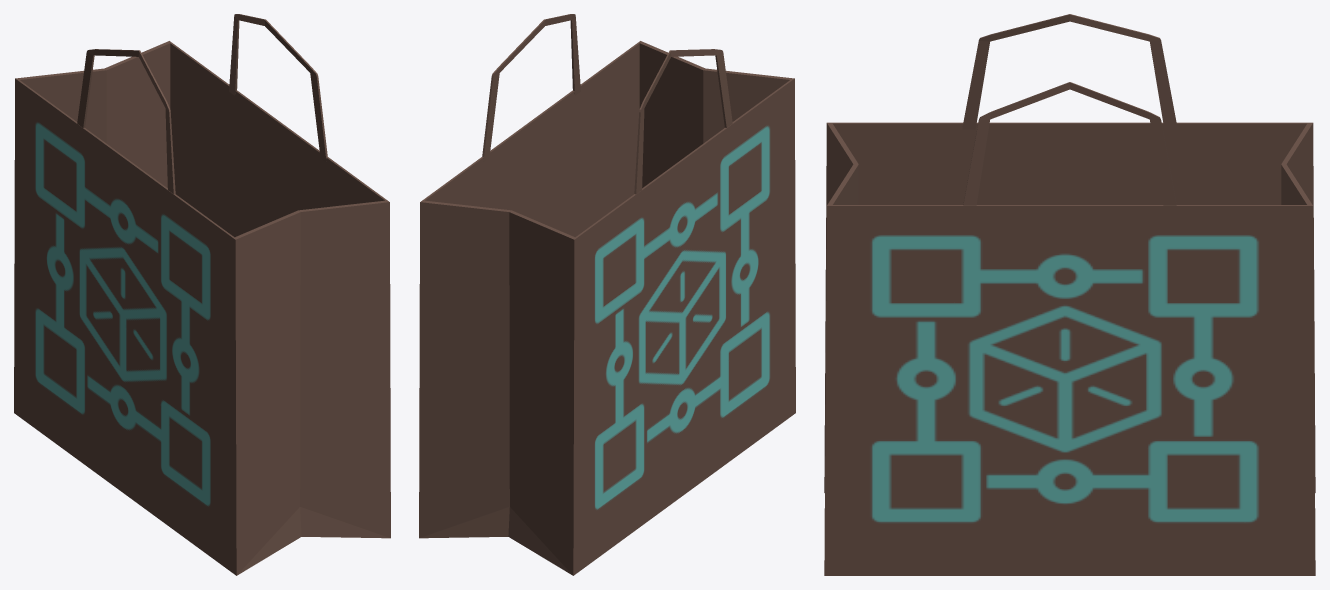
File: Bag.fbx
3 renders of one model, left to right at view 1: azimuth 30°, elevation 25°; view 2: azimuth 150°, elevation 25°; view 3: azimuth 270°, elevation 25°, orthographic. The views are drawn at different scales.
Parts seen in each view (by area): view 1: Plane.004; view 2: Plane.004; view 3: Plane.004.
Part boxes in pixels (<box>): Plane.004: <box>14,14,390,575</box>; Plane.004: <box>419,14,795,575</box>; Plane.004: <box>824,14,1315,575</box>.
Bounding box in the file's own units: 69.67 × 190 × 174.
